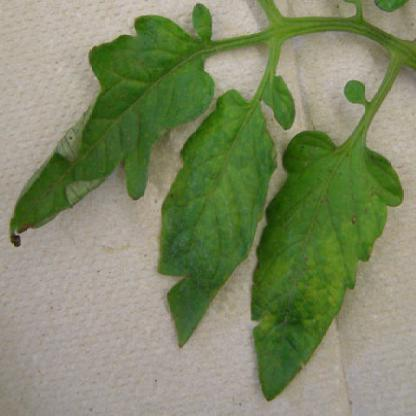Tomato leaf mosaic virus: (3, 13, 211, 248), (247, 119, 408, 408), (166, 98, 271, 349)
